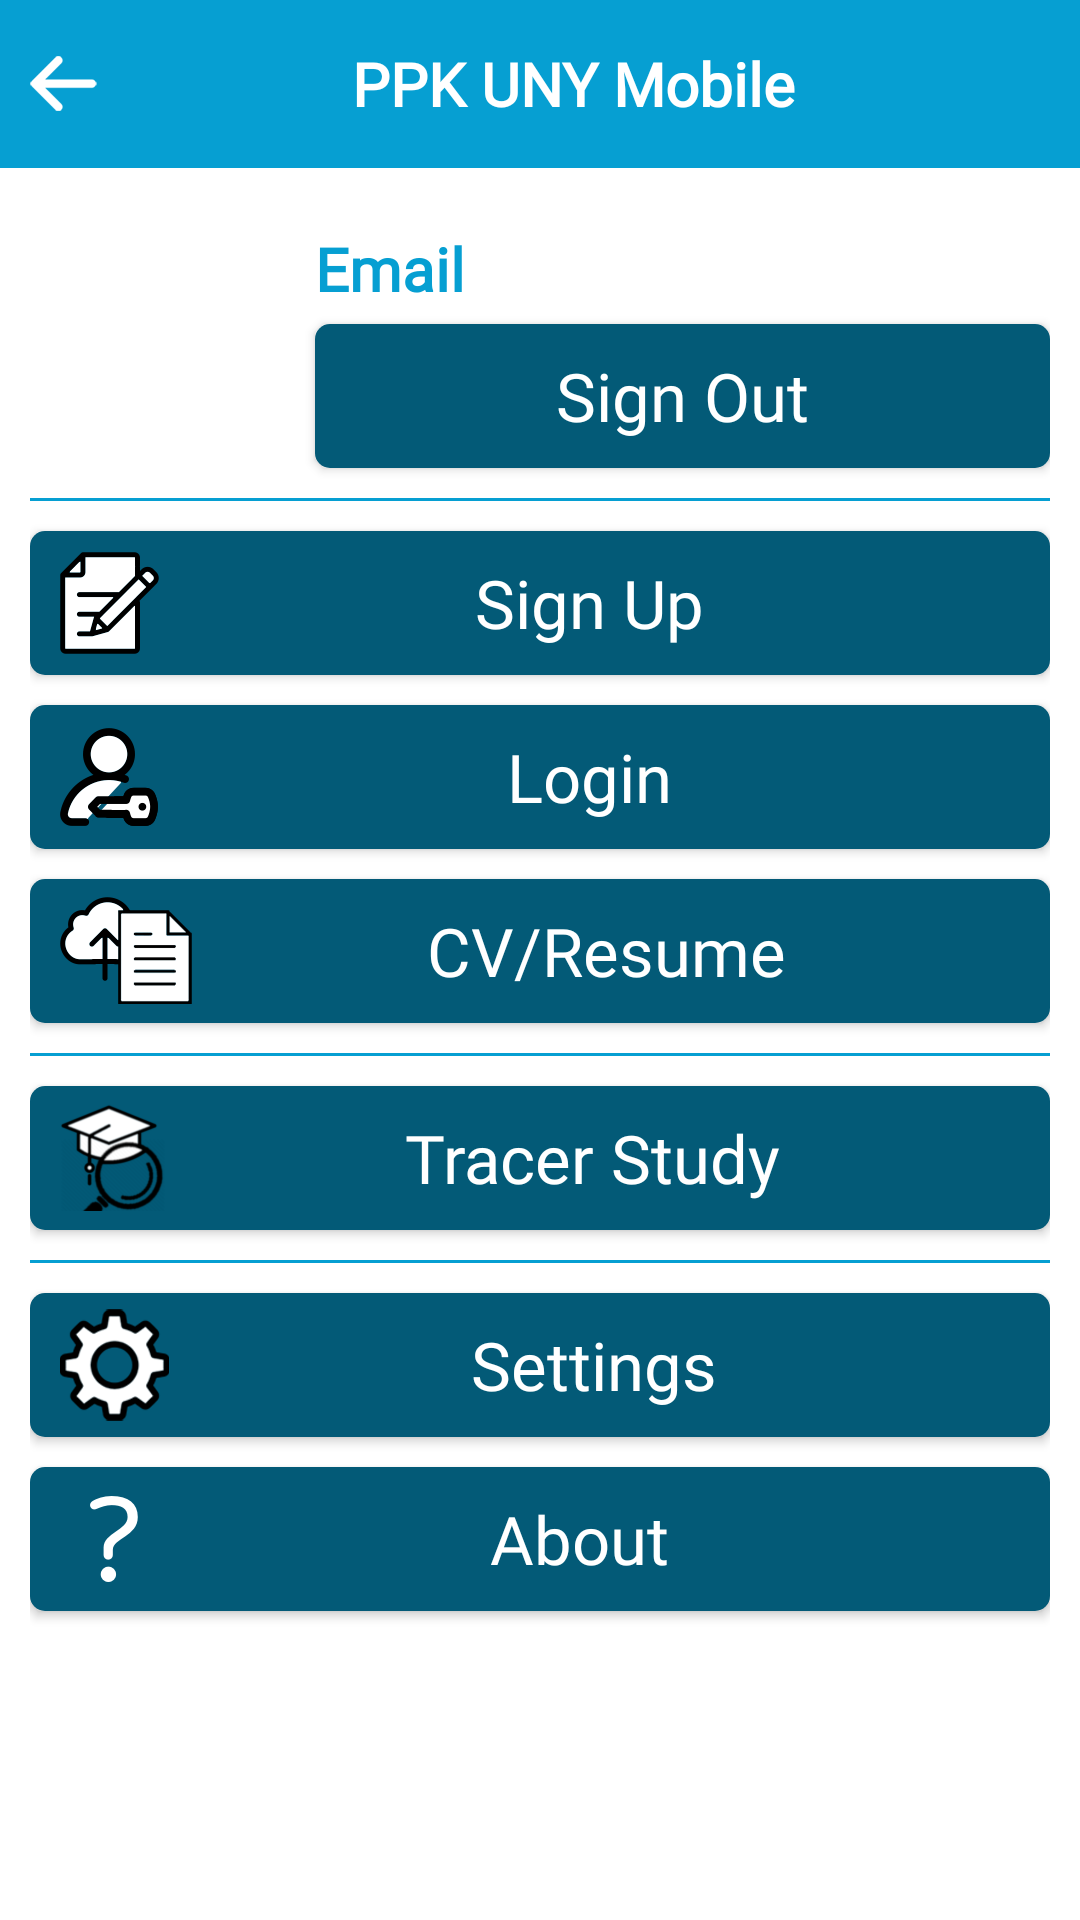

Screen size 1080px×1920px. Icon name, then its center in pixels as (x=x, y=y):
back: (x=63, y=83)
